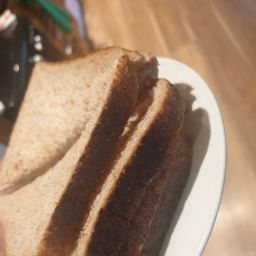Breads: (1, 55, 204, 256), (14, 39, 224, 184)
